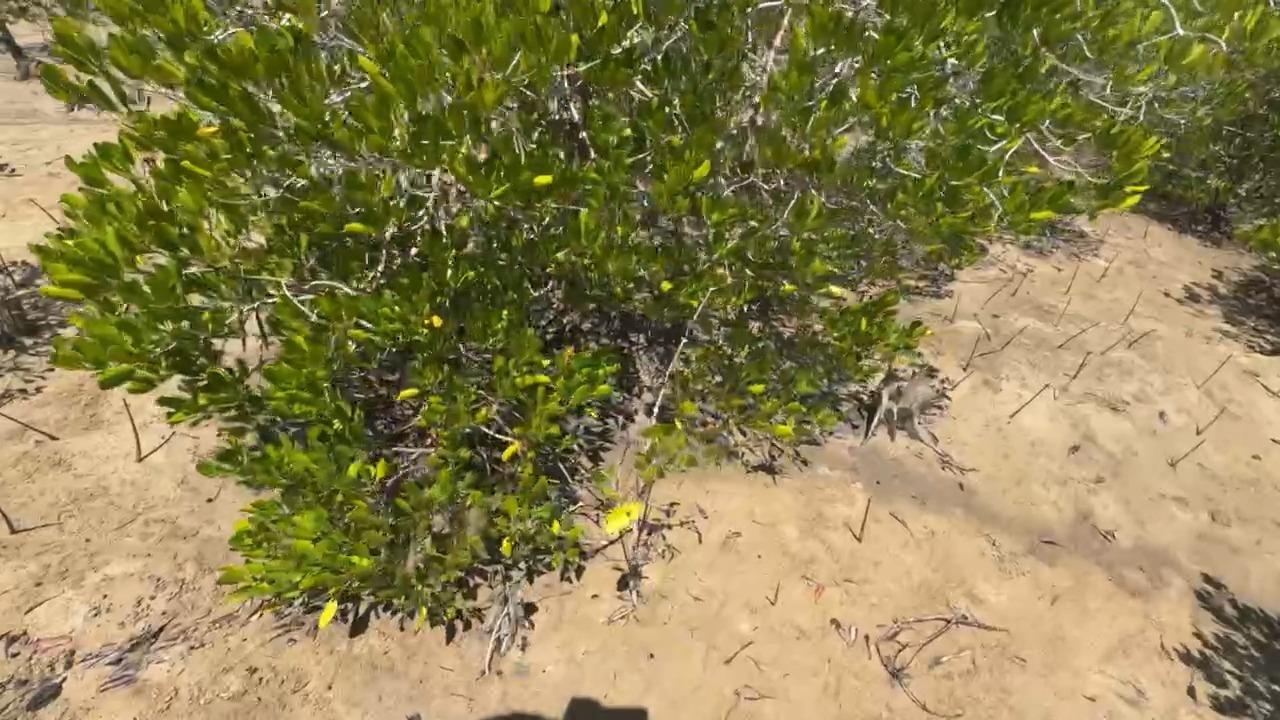Tree: (962, 312, 1030, 373), (1008, 383, 1054, 419), (1196, 354, 1234, 389), (1055, 322, 1104, 348), (123, 398, 142, 463), (1168, 438, 1208, 466), (1099, 331, 1135, 355), (1120, 289, 1144, 325), (1197, 407, 1226, 436), (29, 198, 61, 224), (1097, 250, 1122, 283), (1067, 351, 1093, 382), (983, 282, 1009, 308), (858, 497, 872, 543), (1128, 328, 1157, 348), (1056, 295, 1072, 326), (0, 506, 16, 535), (953, 370, 976, 390), (1065, 265, 1080, 295), (1011, 276, 1028, 296), (953, 293, 961, 321), (766, 595, 776, 607), (1143, 221, 1150, 238)
